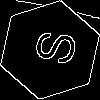S: (25, 25, 78, 68)
